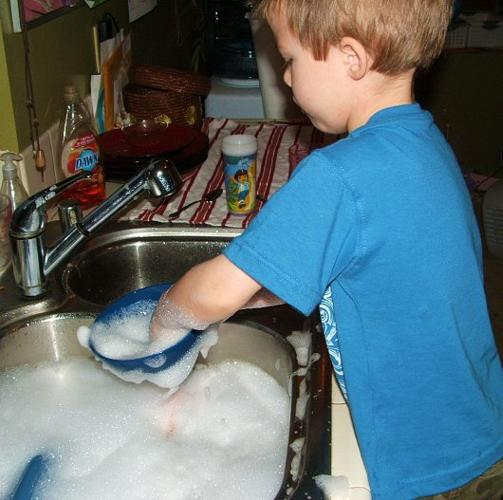person: (147, 6, 503, 500)
